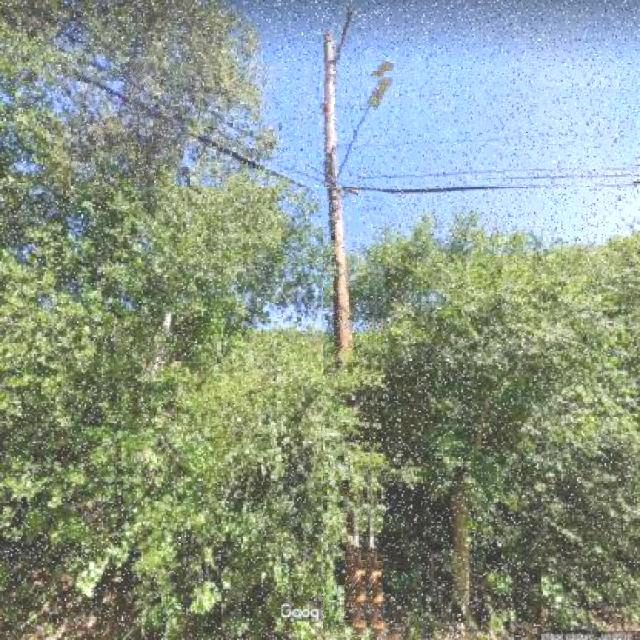pole: (323, 28, 372, 635)
wire: (71, 71, 635, 186), (97, 63, 339, 187), (347, 165, 640, 179), (539, 186, 636, 187)
